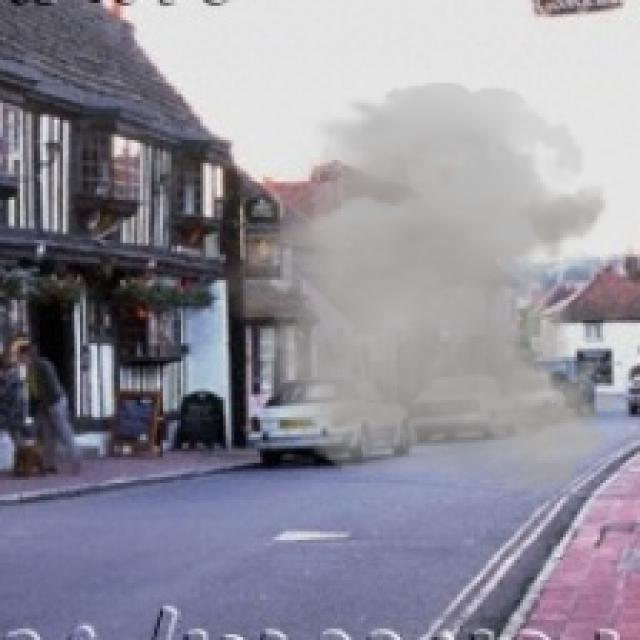smoke: (200, 83, 620, 494)
